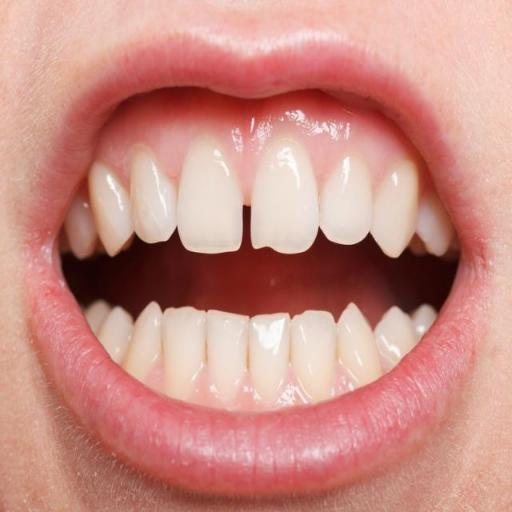spaced: (238, 176, 258, 252)
